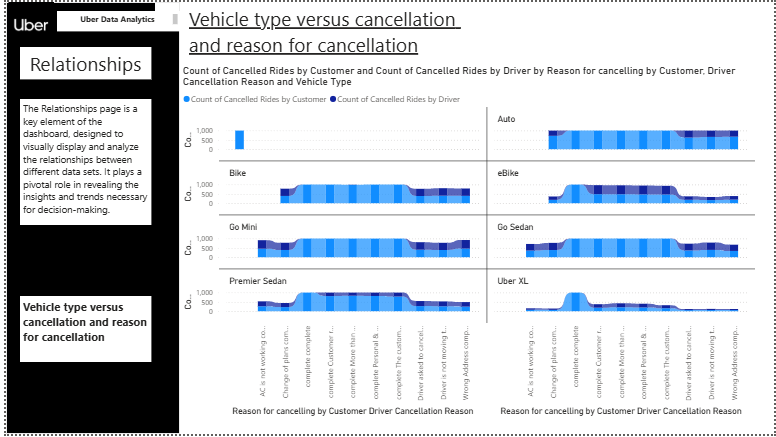

The dashboard page shown, as its layout file describes it:
{"tool":"powerbi","page":{"name":"Page 5","canvas":[1280,720],"ordinal":4},"visuals":[{"type":"textbox","box":[0,0,290,720],"z":0},{"type":"image","box":[0,0,84.3,75.7],"z":1000},{"type":"textbox","box":[84.3,15.7,205.7,34.3],"z":2000},{"type":"textbox","box":[22.9,75.7,218.6,54.3],"z":3000},{"type":"textbox","box":[22.9,161.4,218.6,210],"z":4000},{"type":"textbox","box":[22.9,490,218.6,110],"z":5000},{"type":"textbox","box":[300,0,477.1,102.9],"z":6000},{"type":"ribbonChart","fields":{"Category":["مشروع تخرج اوبر.Reason for cancelling by Customer","مشروع تخرج اوبر.Driver Cancellation Reason"],"Y":["CountNonNull(مشروع تخرج اوبر.Cancelled Rides by Customer)","CountNonNull(مشروع تخرج اوبر.Cancelled Rides by Driver)"],"Rows":["مشروع تخرج اوبر.Vehicle Type"]},"box":[290,102.9,964.3,595.7],"z":7000}]}

Visuals, with their boxes in screenshot pixels (x1, y1, x2, y2), scaled from the page's 1280x720 canvas onto the 776x437 screenshot:
textbox: <bbox>0, 0, 176, 436</bbox>
image: <bbox>0, 0, 51, 46</bbox>
textbox: <bbox>51, 10, 176, 30</bbox>
textbox: <bbox>14, 46, 146, 79</bbox>
textbox: <bbox>14, 98, 146, 225</bbox>
textbox: <bbox>14, 297, 146, 364</bbox>
textbox: <bbox>182, 0, 471, 62</bbox>
ribbonChart - مشروع تخرج اوبر.Reason for cancelling by Customer x مشروع تخرج اوبر.Driver Cancellation Reason: <bbox>176, 62, 760, 424</bbox>
